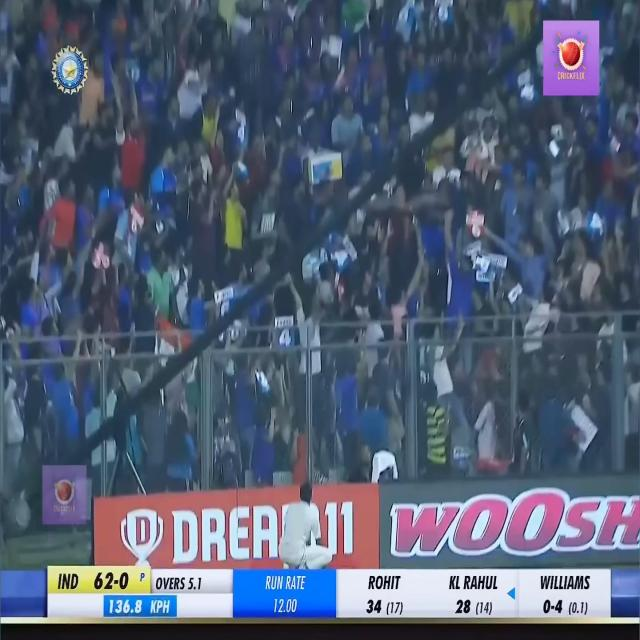partially_visible: (276, 313, 294, 329)
